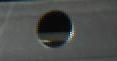holes: (35, 8, 74, 47)
